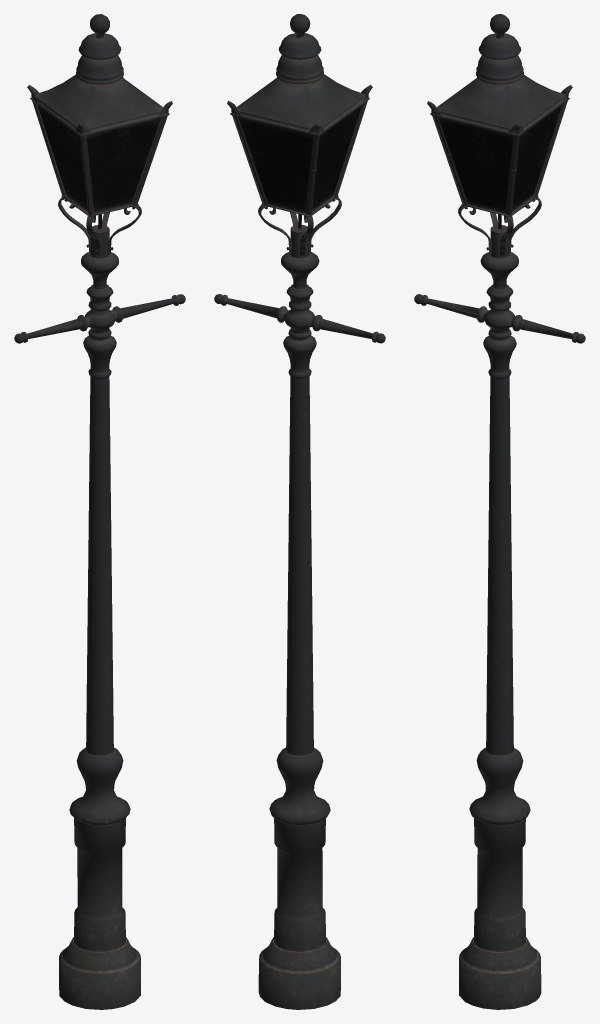
File: street_lamp_01.glb
The picture shows the model from 3 angles, left to right: view 1: azimuth 30°, elevation 25°; view 2: azimuth 150°, elevation 25°; view 3: azimuth 330°, elevation 25°; orthographic projection.
Visible parts, largest first — view 1: street_lamp_01; view 2: street_lamp_01; view 3: street_lamp_01.
Boxes of the visible parts, x1=… form: street_lamp_01: x1=14, y1=14, x2=185, y2=1009; street_lamp_01: x1=214, y1=14, x2=385, y2=1009; street_lamp_01: x1=414, y1=14, x2=585, y2=1009.
Bounding box in the file's own units: 0.7642 × 4.2 × 0.4184.
Materials: 3 (3 with a texture image).
